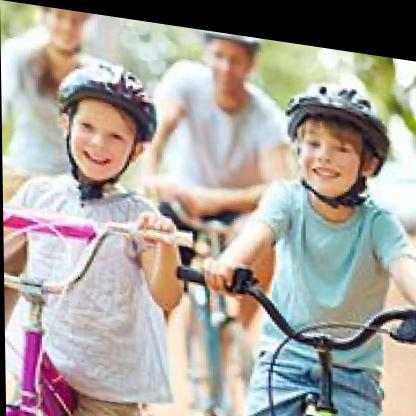With Helmet: (49, 43, 164, 202), (280, 58, 397, 201)
